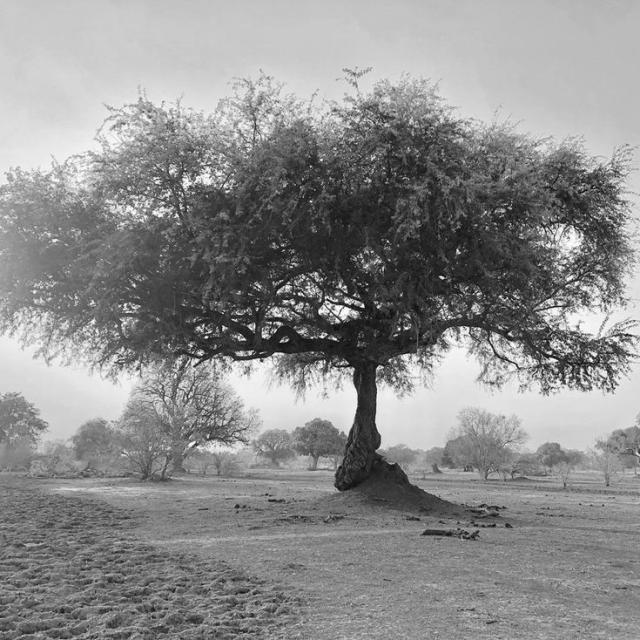Acacia: (36, 103, 624, 491)
